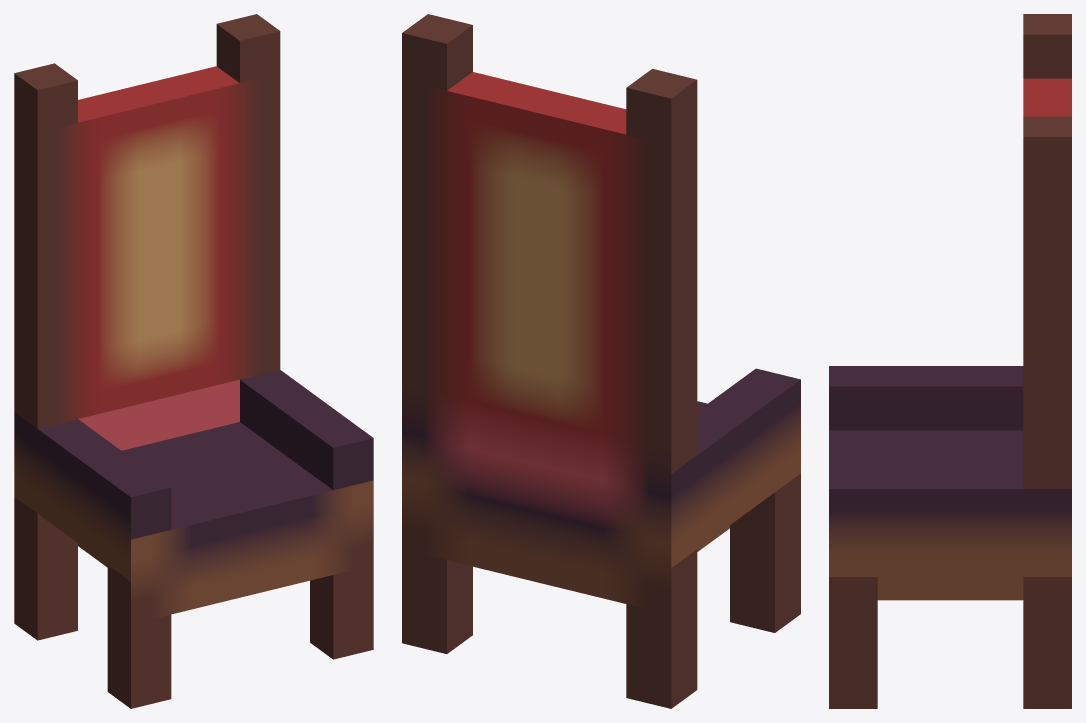
Rendered from throne.fbx.
3 views of the same model, side by side, from view 1: azimuth 30°, elevation 25°; view 2: azimuth 150°, elevation 25°; view 3: azimuth 270°, elevation 25° (orthographic). The views are drawn at different scales.
Parts seen in each view (by area): view 1: throne; view 2: throne; view 3: throne.
Boxes of the visible parts, box(x1,y1,x2,y2) form: throne: box(14, 14, 373, 708); throne: box(402, 14, 800, 708); throne: box(829, 14, 1071, 708).
Size of the model in its own units: 6 by 13 by 5.
1 material, 1 textured.
